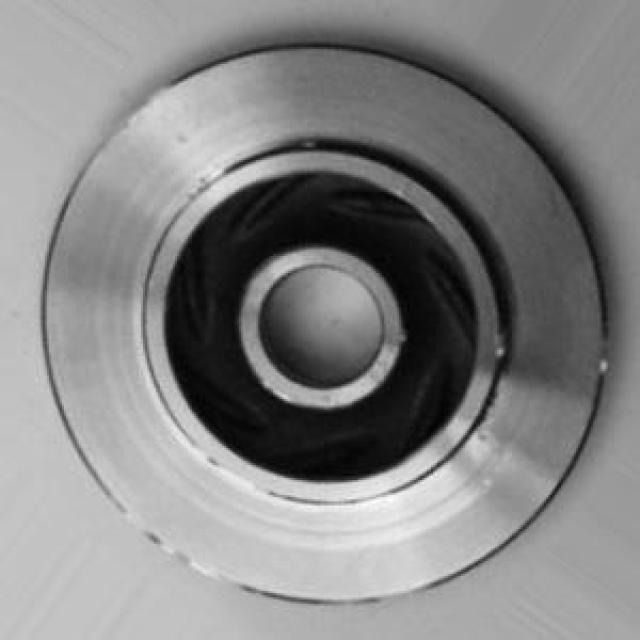Defect: (468, 326, 534, 373)
